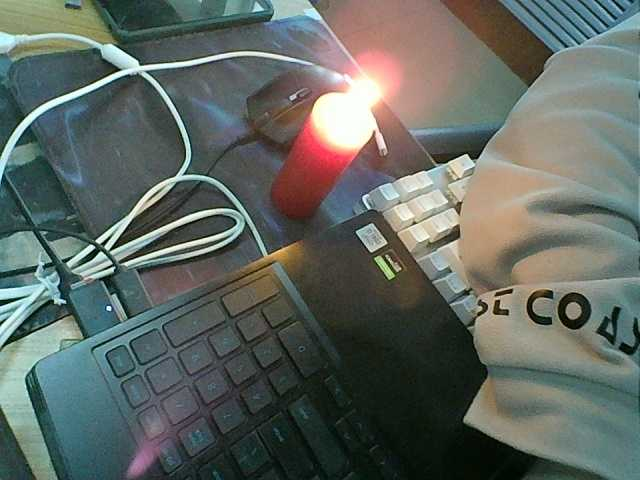candle: (270, 91, 368, 236)
fire: (308, 69, 400, 147)
